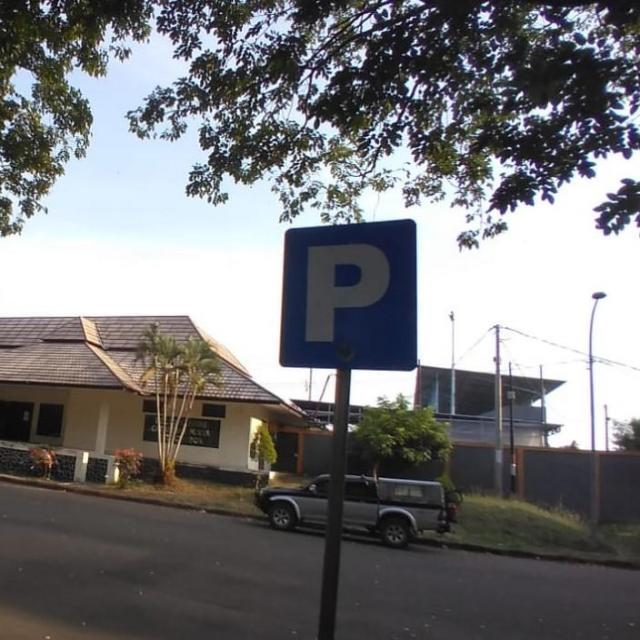traffic sign: (281, 221, 418, 374)
